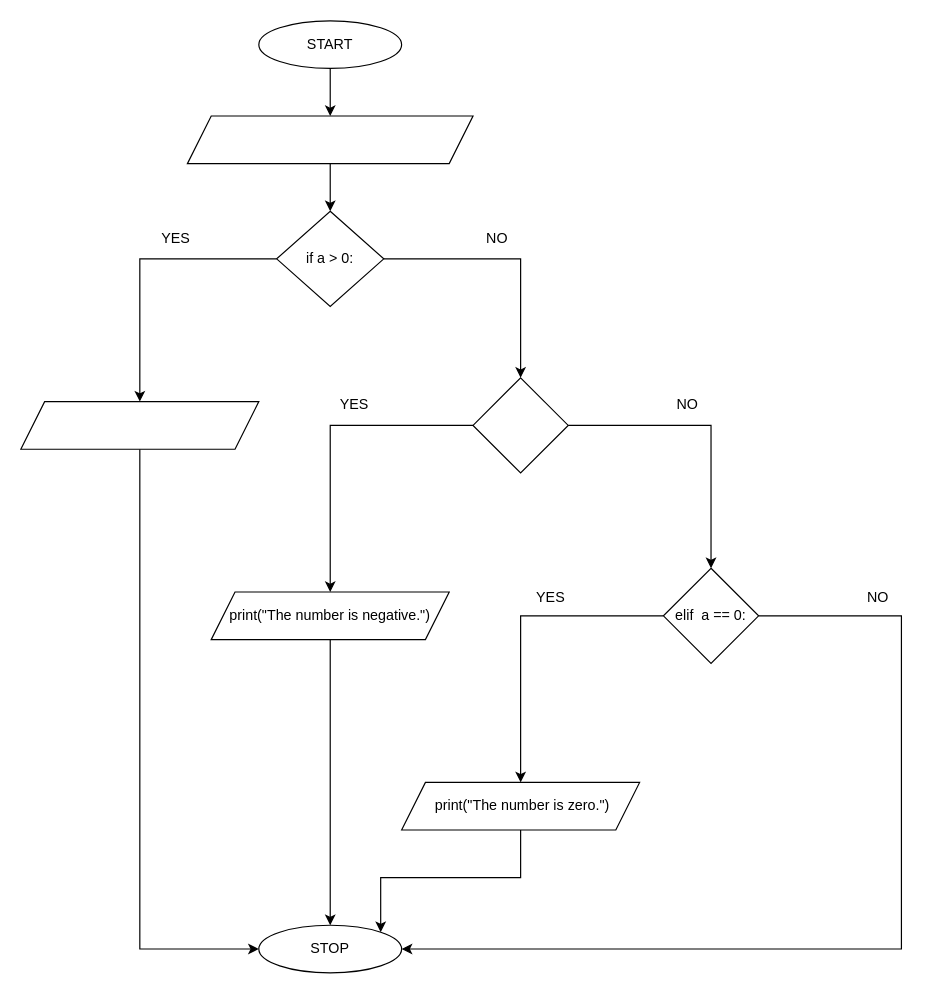
Image size: 932x994. Some labels were removed from this diagram. Here are the shapes that lost their labels. From the top down, the centre of each, then its label:
point (329, 139): a = float(input("Enter a number: "))
point (139, 424): print("The number is positive.")
point (520, 425): elif a < 0:
